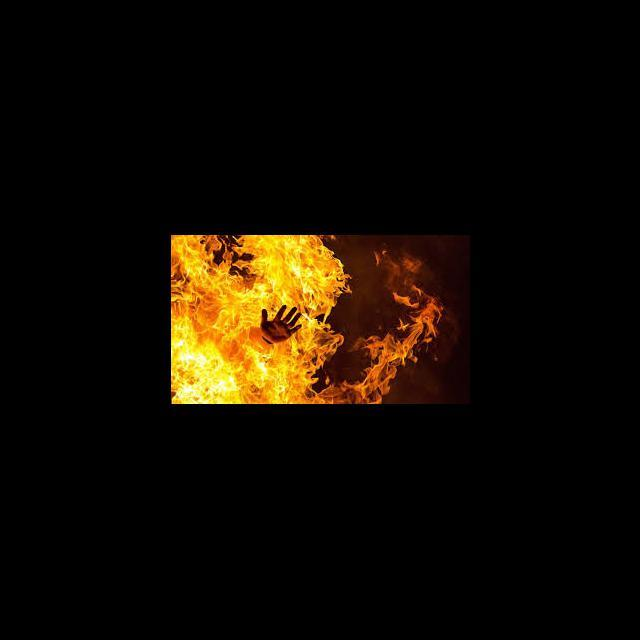Fire: (172, 237, 462, 403)
